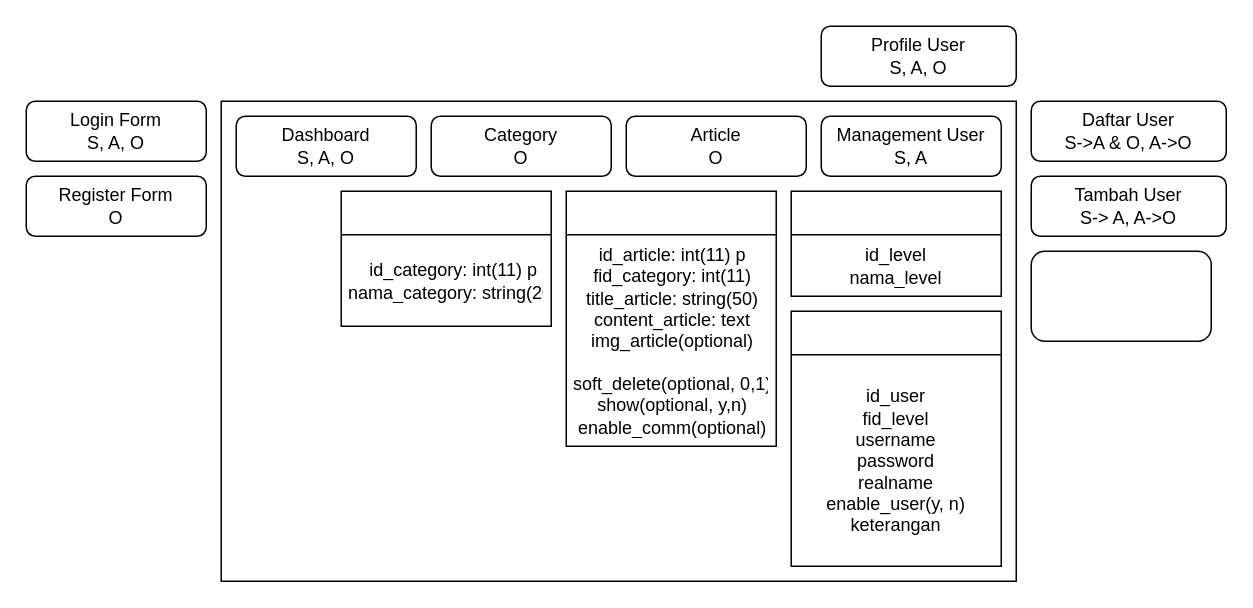
Image size: 1253x608. Some labels were removed from this diagram. The box of each missing label's shape, as (x1, y1, x2, y2) in pixels:
aa_user: (790, 310, 1001, 566)
aa_user_level: (790, 190, 1001, 296)
dm_category: (340, 190, 551, 326)
Super Admin Admin Operator: (1030, 250, 1211, 341)
tr_article: (565, 190, 776, 446)
